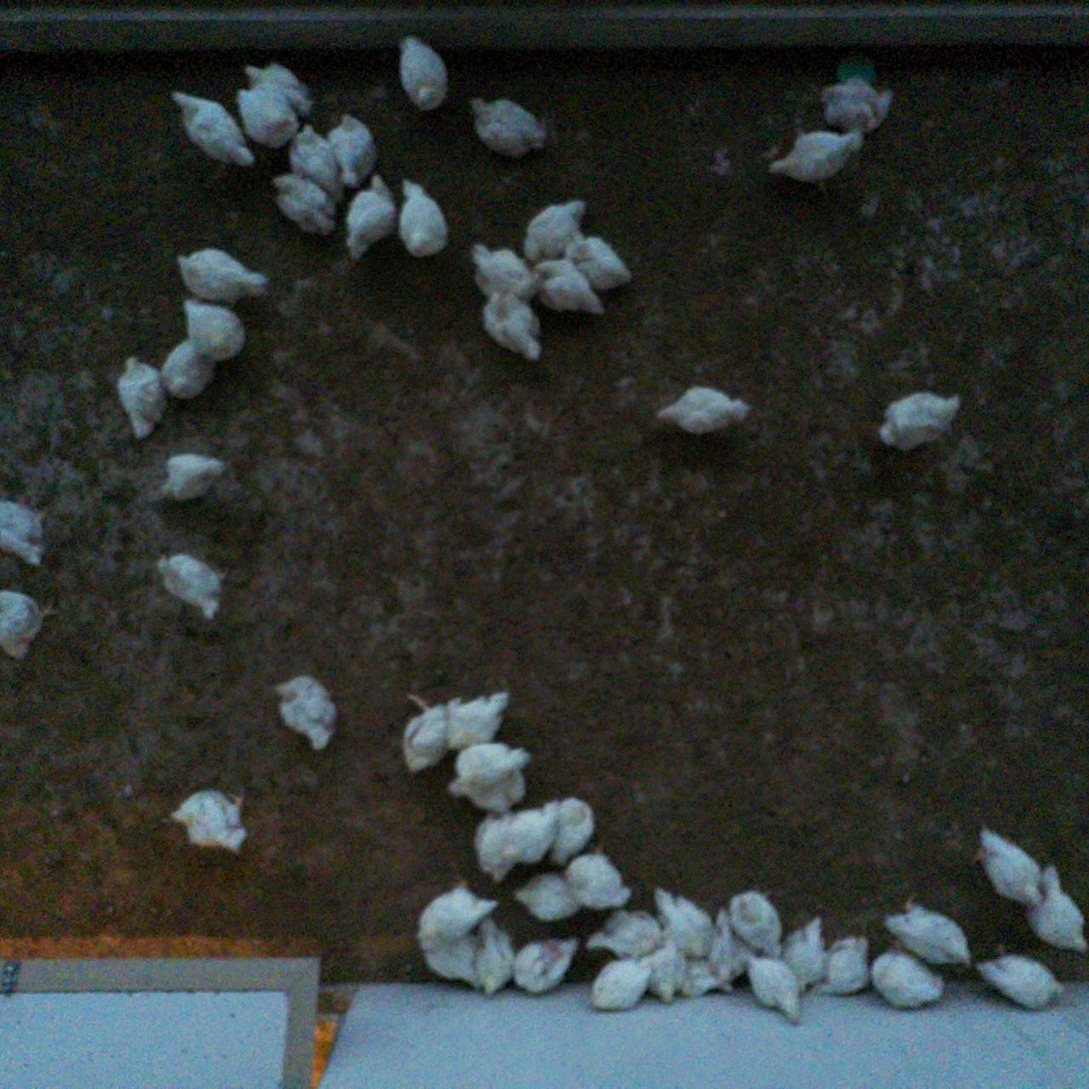chicken: (167, 87, 258, 176), (965, 819, 1049, 913), (969, 941, 1070, 1018), (881, 890, 975, 972), (764, 122, 872, 192), (415, 878, 503, 961), (861, 935, 949, 1016), (870, 385, 967, 454), (163, 784, 254, 857), (446, 740, 535, 812), (172, 241, 269, 307), (270, 671, 343, 757), (153, 545, 230, 626), (470, 807, 553, 882), (652, 380, 755, 440), (1025, 862, 1089, 957), (468, 94, 551, 162), (512, 195, 593, 264), (650, 882, 721, 960), (341, 168, 398, 262), (390, 688, 451, 775), (566, 837, 634, 915), (480, 289, 547, 368), (174, 293, 247, 365), (394, 174, 455, 260), (392, 31, 452, 117), (286, 121, 348, 204), (113, 352, 170, 442), (814, 74, 897, 135), (269, 169, 341, 239), (232, 84, 304, 153), (240, 58, 318, 118), (466, 239, 539, 303), (0, 587, 60, 664), (562, 235, 637, 295), (326, 109, 381, 190), (444, 687, 514, 750), (509, 868, 582, 928), (727, 889, 787, 961), (582, 906, 665, 958), (158, 336, 220, 405), (157, 449, 228, 508), (537, 258, 606, 318), (513, 931, 581, 991), (473, 916, 521, 999), (0, 497, 53, 572), (420, 926, 483, 989), (547, 791, 599, 867), (749, 961, 807, 1028), (586, 956, 651, 1015), (783, 912, 834, 987), (820, 928, 874, 996), (642, 937, 687, 1010), (708, 908, 752, 977), (678, 953, 736, 1002)
